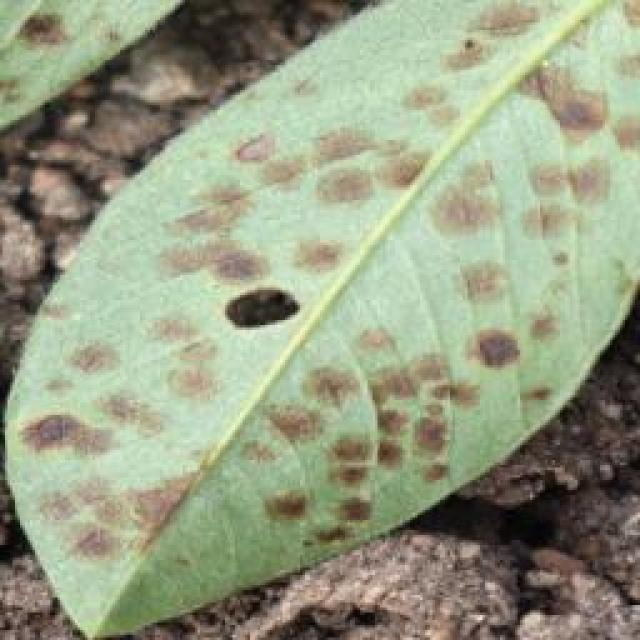Whitefly: (0, 0, 639, 541)
